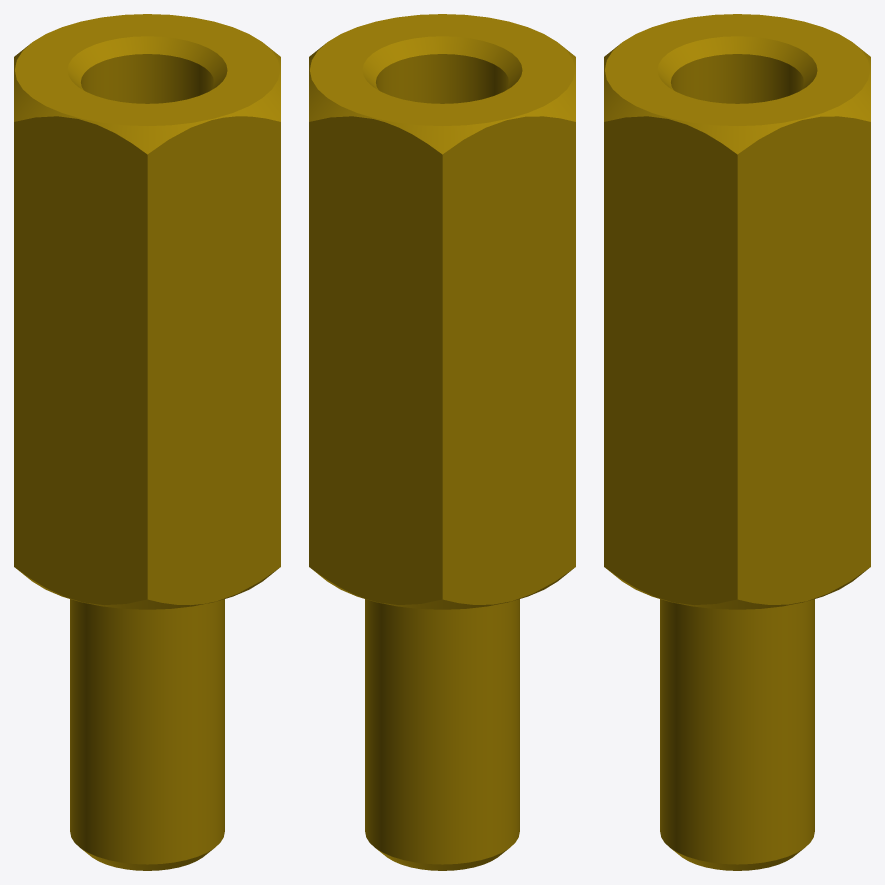
Rendered from M3_M_TO_F_10MM_STANDOFF.glb.
3 renders of one model, left to right at view 1: azimuth 30°, elevation 25°; view 2: azimuth 150°, elevation 25°; view 3: azimuth 270°, elevation 25°, orthographic.
Parts seen in each view (by area): view 1: M3_M_TO_F_10MM_STANDOFF; view 2: M3_M_TO_F_10MM_STANDOFF; view 3: M3_M_TO_F_10MM_STANDOFF.
Boxes of the visible parts, <box> form: M3_M_TO_F_10MM_STANDOFF: <box>14,14,280,870</box>; M3_M_TO_F_10MM_STANDOFF: <box>309,14,575,870</box>; M3_M_TO_F_10MM_STANDOFF: <box>604,14,870,870</box>.
Bounding box in the file's own units: 0.00577 × 0.016 × 0.005.
